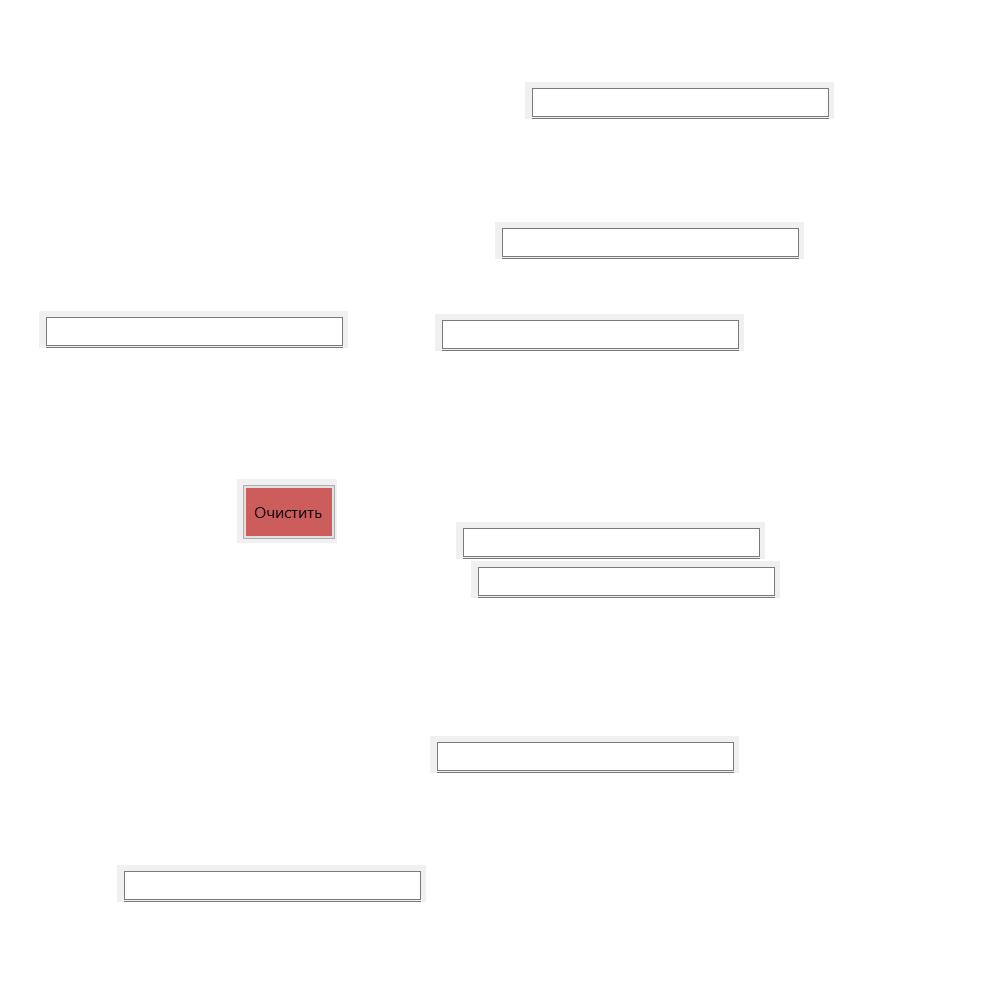Button: (237, 479, 337, 543)
EditText-: (39, 311, 348, 348), (525, 82, 834, 119), (495, 222, 804, 259), (430, 736, 739, 773), (456, 522, 765, 559), (471, 561, 780, 598), (435, 314, 744, 351), (117, 865, 426, 902)
